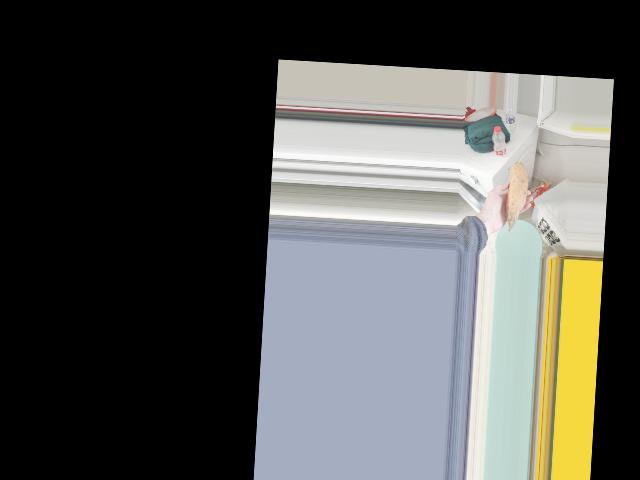sweet_potato: (503, 161, 528, 229)
